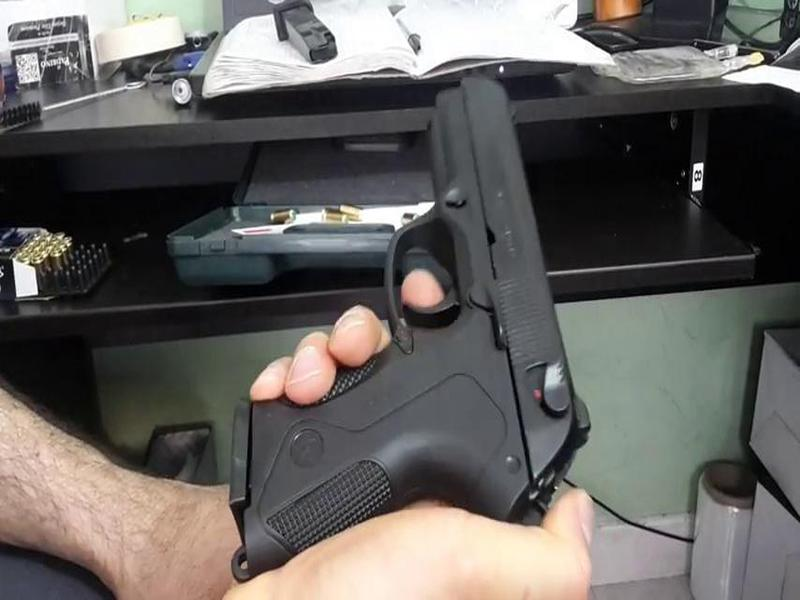Pistola: (205, 82, 600, 560)
